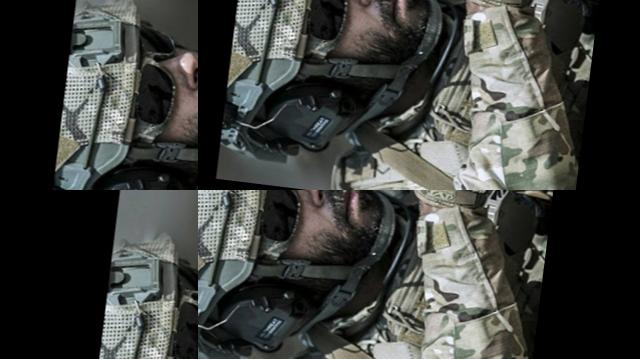handgun: (367, 190, 502, 243), (320, 0, 420, 44), (332, 126, 417, 174)
